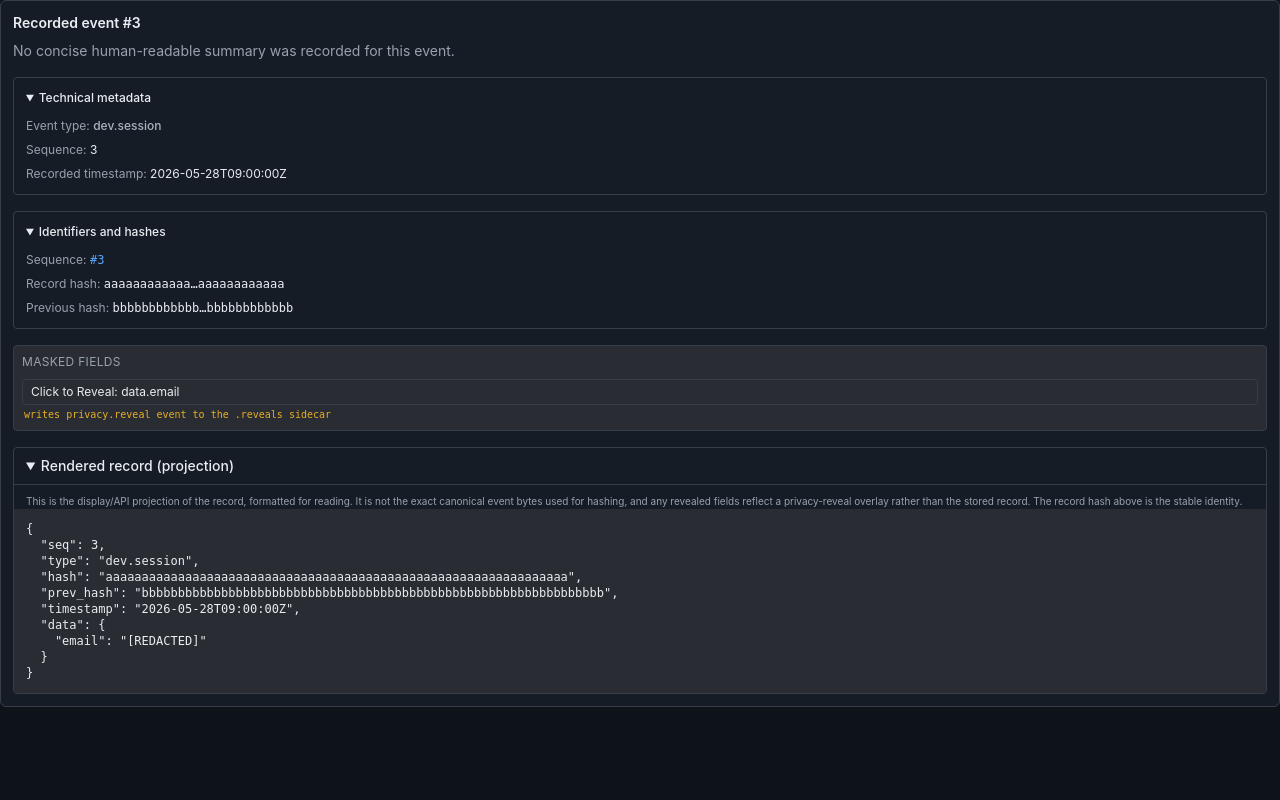
Test: EventInspector › overlays a revealed value onto inspector JSON after a successful reveal
Expected: the text "[REDACTED]" is shown, x1=26 y1=522 x2=618 y2=680
Click the button with aria-label "Reveal masked field data.email".
click(105, 392)  # box x1=22 y1=379 x2=1258 y2=405
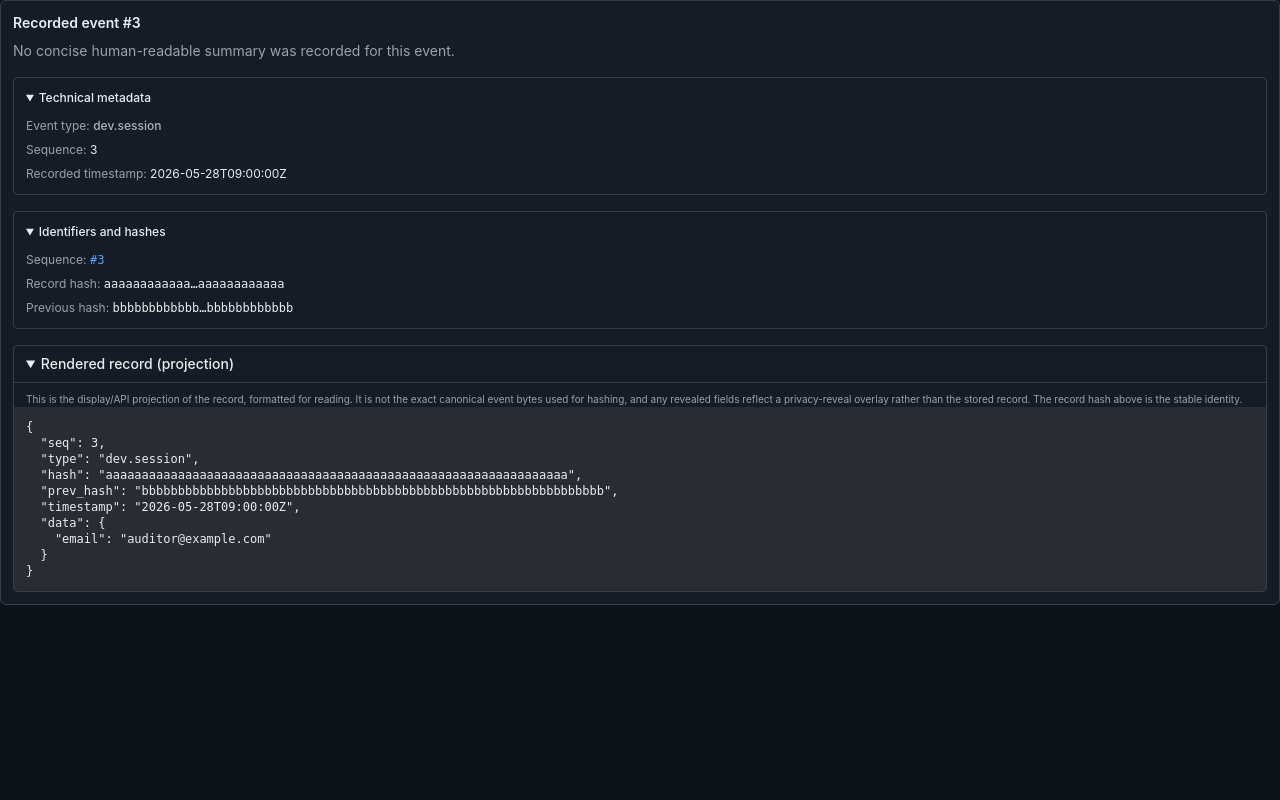
Expected: the text "[REDACTED]" shows "auditor@example.com", x1=26 y1=420 x2=618 y2=578
